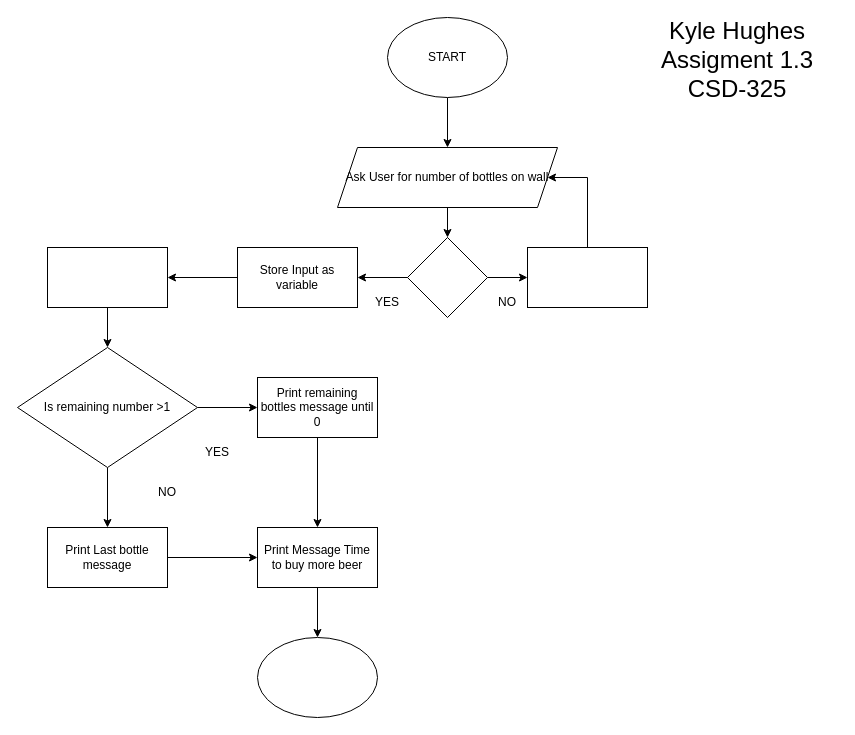
This 855x735 diagram has some shape labels left out. Here are the shapes that lost their labels. From the top down, the box of each, then its label:
(46, 246, 168, 308): countdown function
(406, 236, 488, 318): Is input an integer?
(526, 246, 648, 308): Display "Error, please enter a whole number"
(256, 636, 378, 718): END
